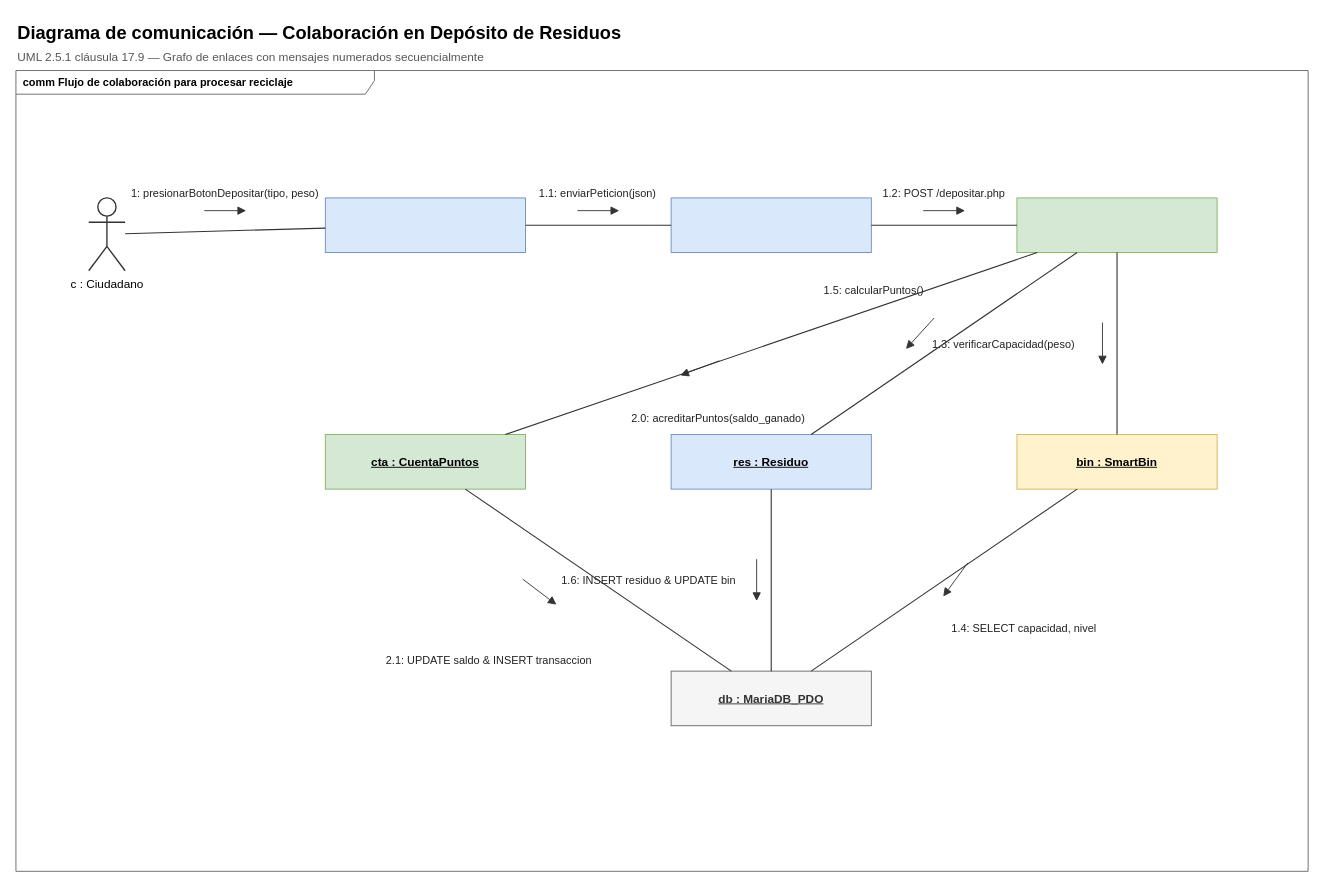
The diagram is 1324 pixels wide and 887 high, and some of its shapes have lost their labels. Here are the shapes that lost their labels. From the top down, the centre of each, then its label:
At [425,225]: "ui : DepositarActivity".
At [770,225]: "net : ApiClientService".
At [1116,225]: "router : ApiDepositar".
